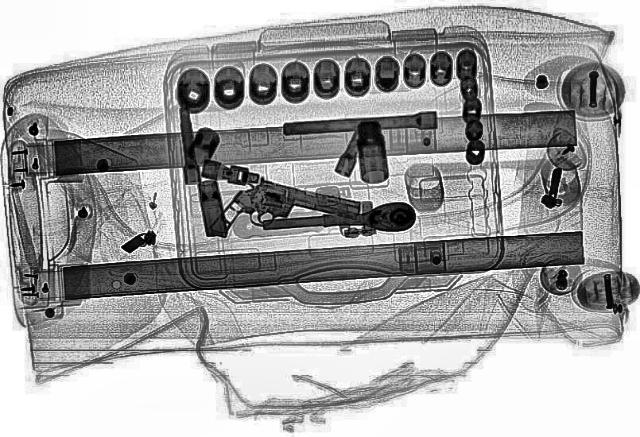Gun: (207, 174, 366, 262)
